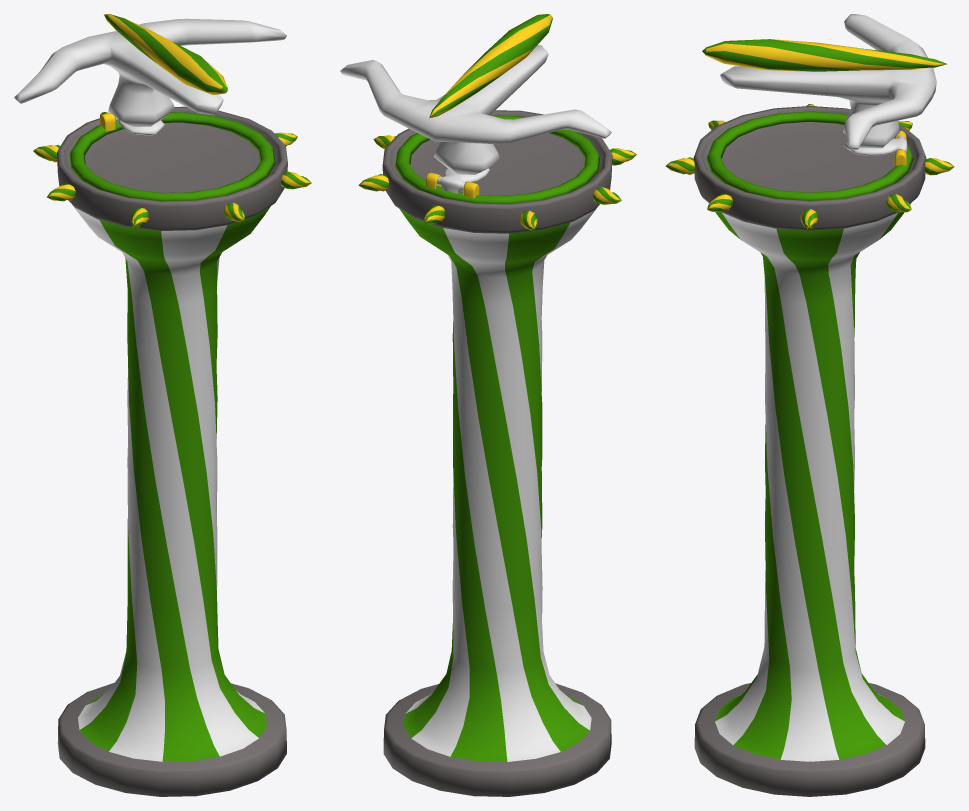
Rendered from Tower_Attack_Heavy (6).fbx.
3 renders of one model, left to right at view 1: azimuth 30°, elevation 25°; view 2: azimuth 150°, elevation 25°; view 3: azimuth 270°, elevation 25°, orthographic.
Visible parts, largest first — view 1: Cube.034, Cube.001, Cube.035, Cube.003; view 2: Cube.034, Cube.001, Cube.035, Cube.003, Cube.002; view 3: Cube.034, Cube.001, Cube.035, Cube.003, Cube.002.
Boxes of the visible parts, x1=… form: Cube.034: x1=57, y1=106, x2=287, y2=796; Cube.001: x1=14, y1=18, x2=286, y2=126; Cube.035: x1=104, y1=14, x2=227, y2=94; Cube.003: x1=33, y1=112, x2=311, y2=227; Cube.034: x1=382, y1=110, x2=612, y2=796; Cube.001: x1=340, y1=45, x2=611, y2=174; Cube.035: x1=429, y1=14, x2=552, y2=118; Cube.003: x1=358, y1=135, x2=636, y2=230; Cube.002: x1=436, y1=168, x2=489, y2=193; Cube.034: x1=693, y1=106, x2=926, y2=796; Cube.001: x1=720, y1=14, x2=936, y2=149; Cube.035: x1=702, y1=39, x2=947, y2=71; Cube.003: x1=665, y1=104, x2=954, y2=228; Cube.002: x1=843, y1=136, x2=907, y2=155.
Bounding box in the file's own units: 110 × 279 × 103.
